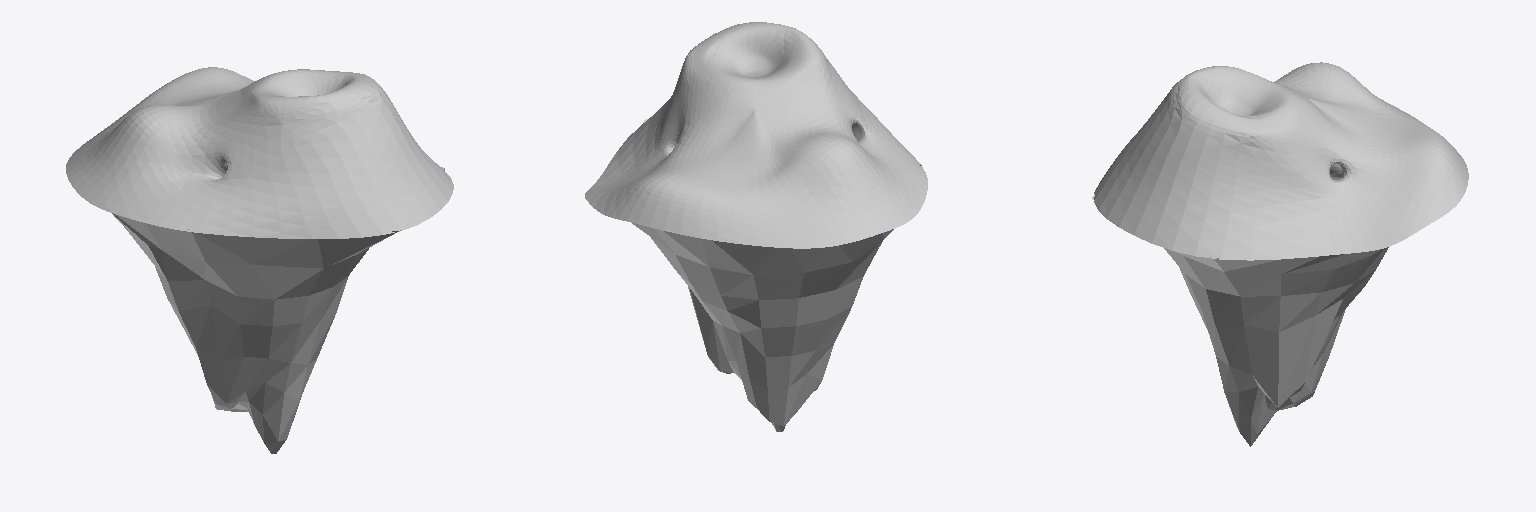
The model's file is island.obj.
The picture shows the model from 3 angles: view 1: azimuth 30°, elevation 25°; view 2: azimuth 150°, elevation 25°; view 3: azimuth 270°, elevation 25°; orthographic projection.
Parts seen in each view (by area): view 1: island.obj; view 2: island.obj; view 3: island.obj.
Part boxes in pixels (x1,y1,x2,y2): island.obj: (66,67,453,453); island.obj: (585,22,927,431); island.obj: (1092,62,1468,446).
Size of the model in its own units: 25.85 by 29.75 by 27.